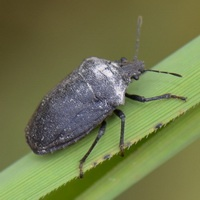insect: (25, 16, 185, 177)
